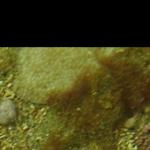dead: (2, 46, 148, 148)
